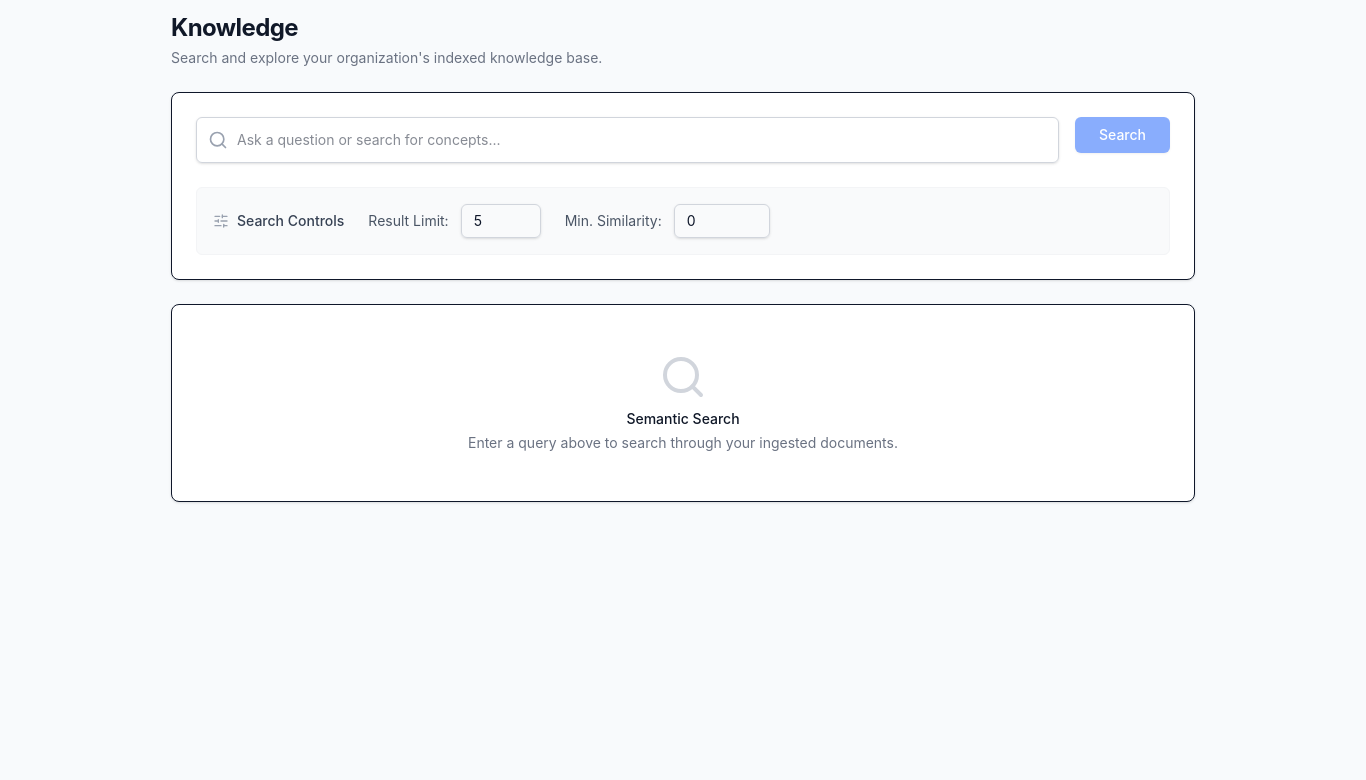
Test: Knowledge Page Search Controls & Grouping › groups multiple chunks belonging to the same document and renders multiple documents
Type "test query" into the field with placeholder "Ask a question or search for concepts..." at x=628, y=140, box top-left (196, 117), bottom-right (1059, 163)
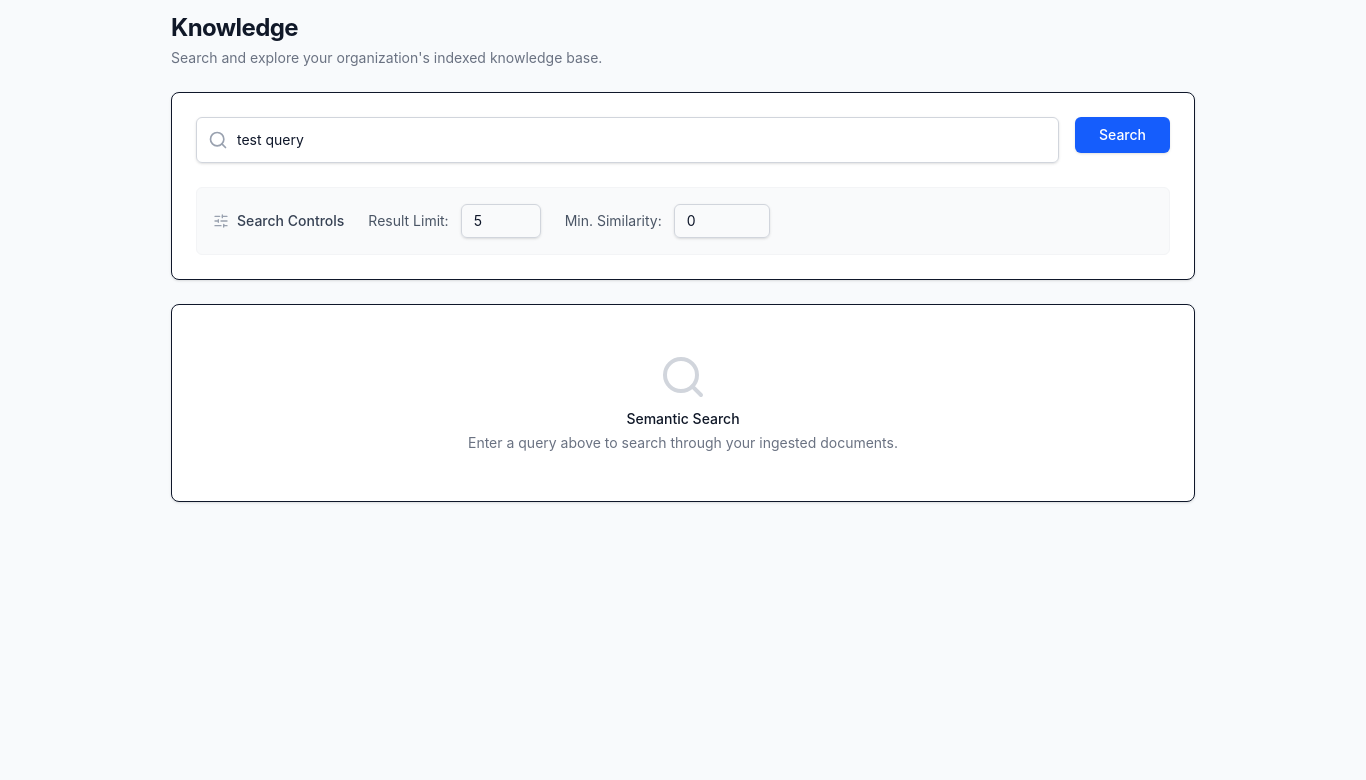
Click the button "Search" at x=1122, y=135, box top-left (1075, 117), bottom-right (1170, 153)
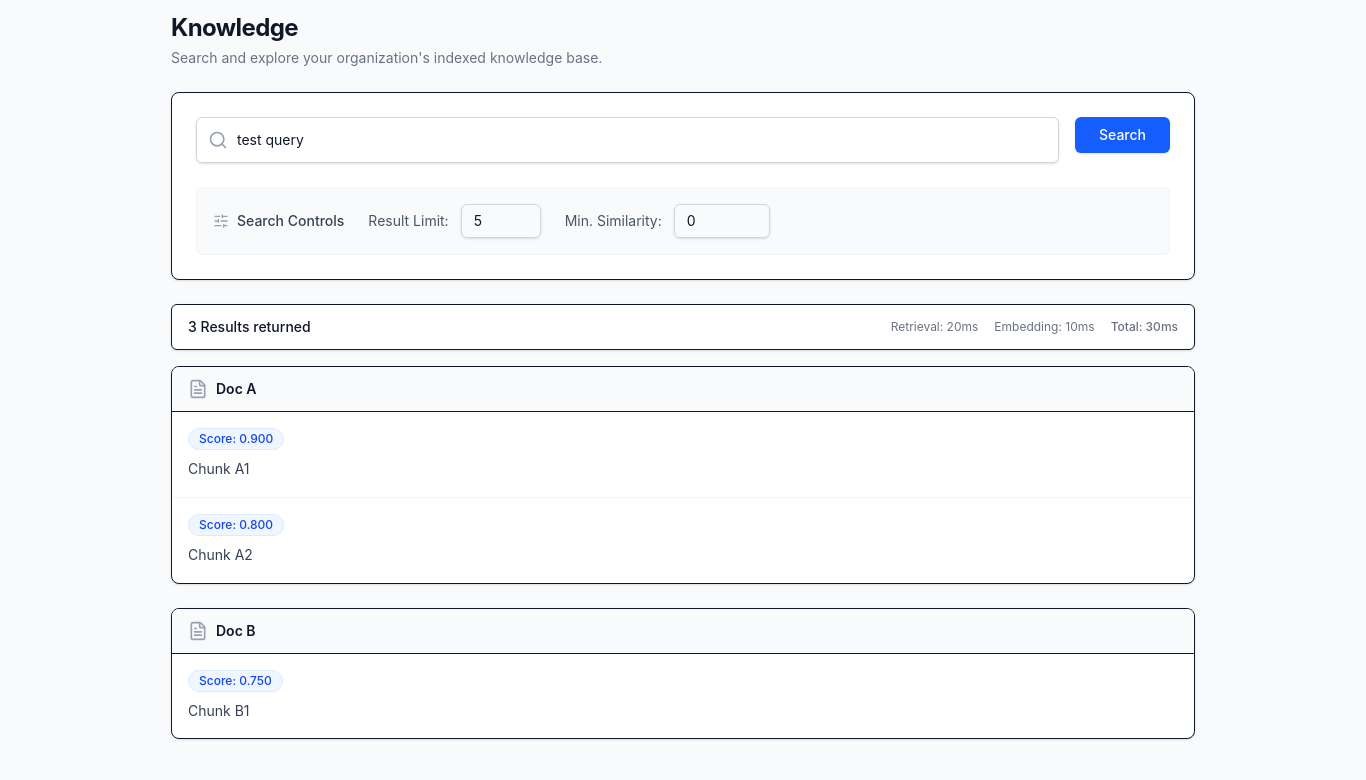
expect the heading "3 Results returned" is shown: met, box top-left (188, 317), bottom-right (311, 337)
expect the text "Doc A" is shown once: met, box top-left (216, 379), bottom-right (256, 399)
expect the text "Doc B" is shown once: met, box top-left (216, 620), bottom-right (256, 640)
